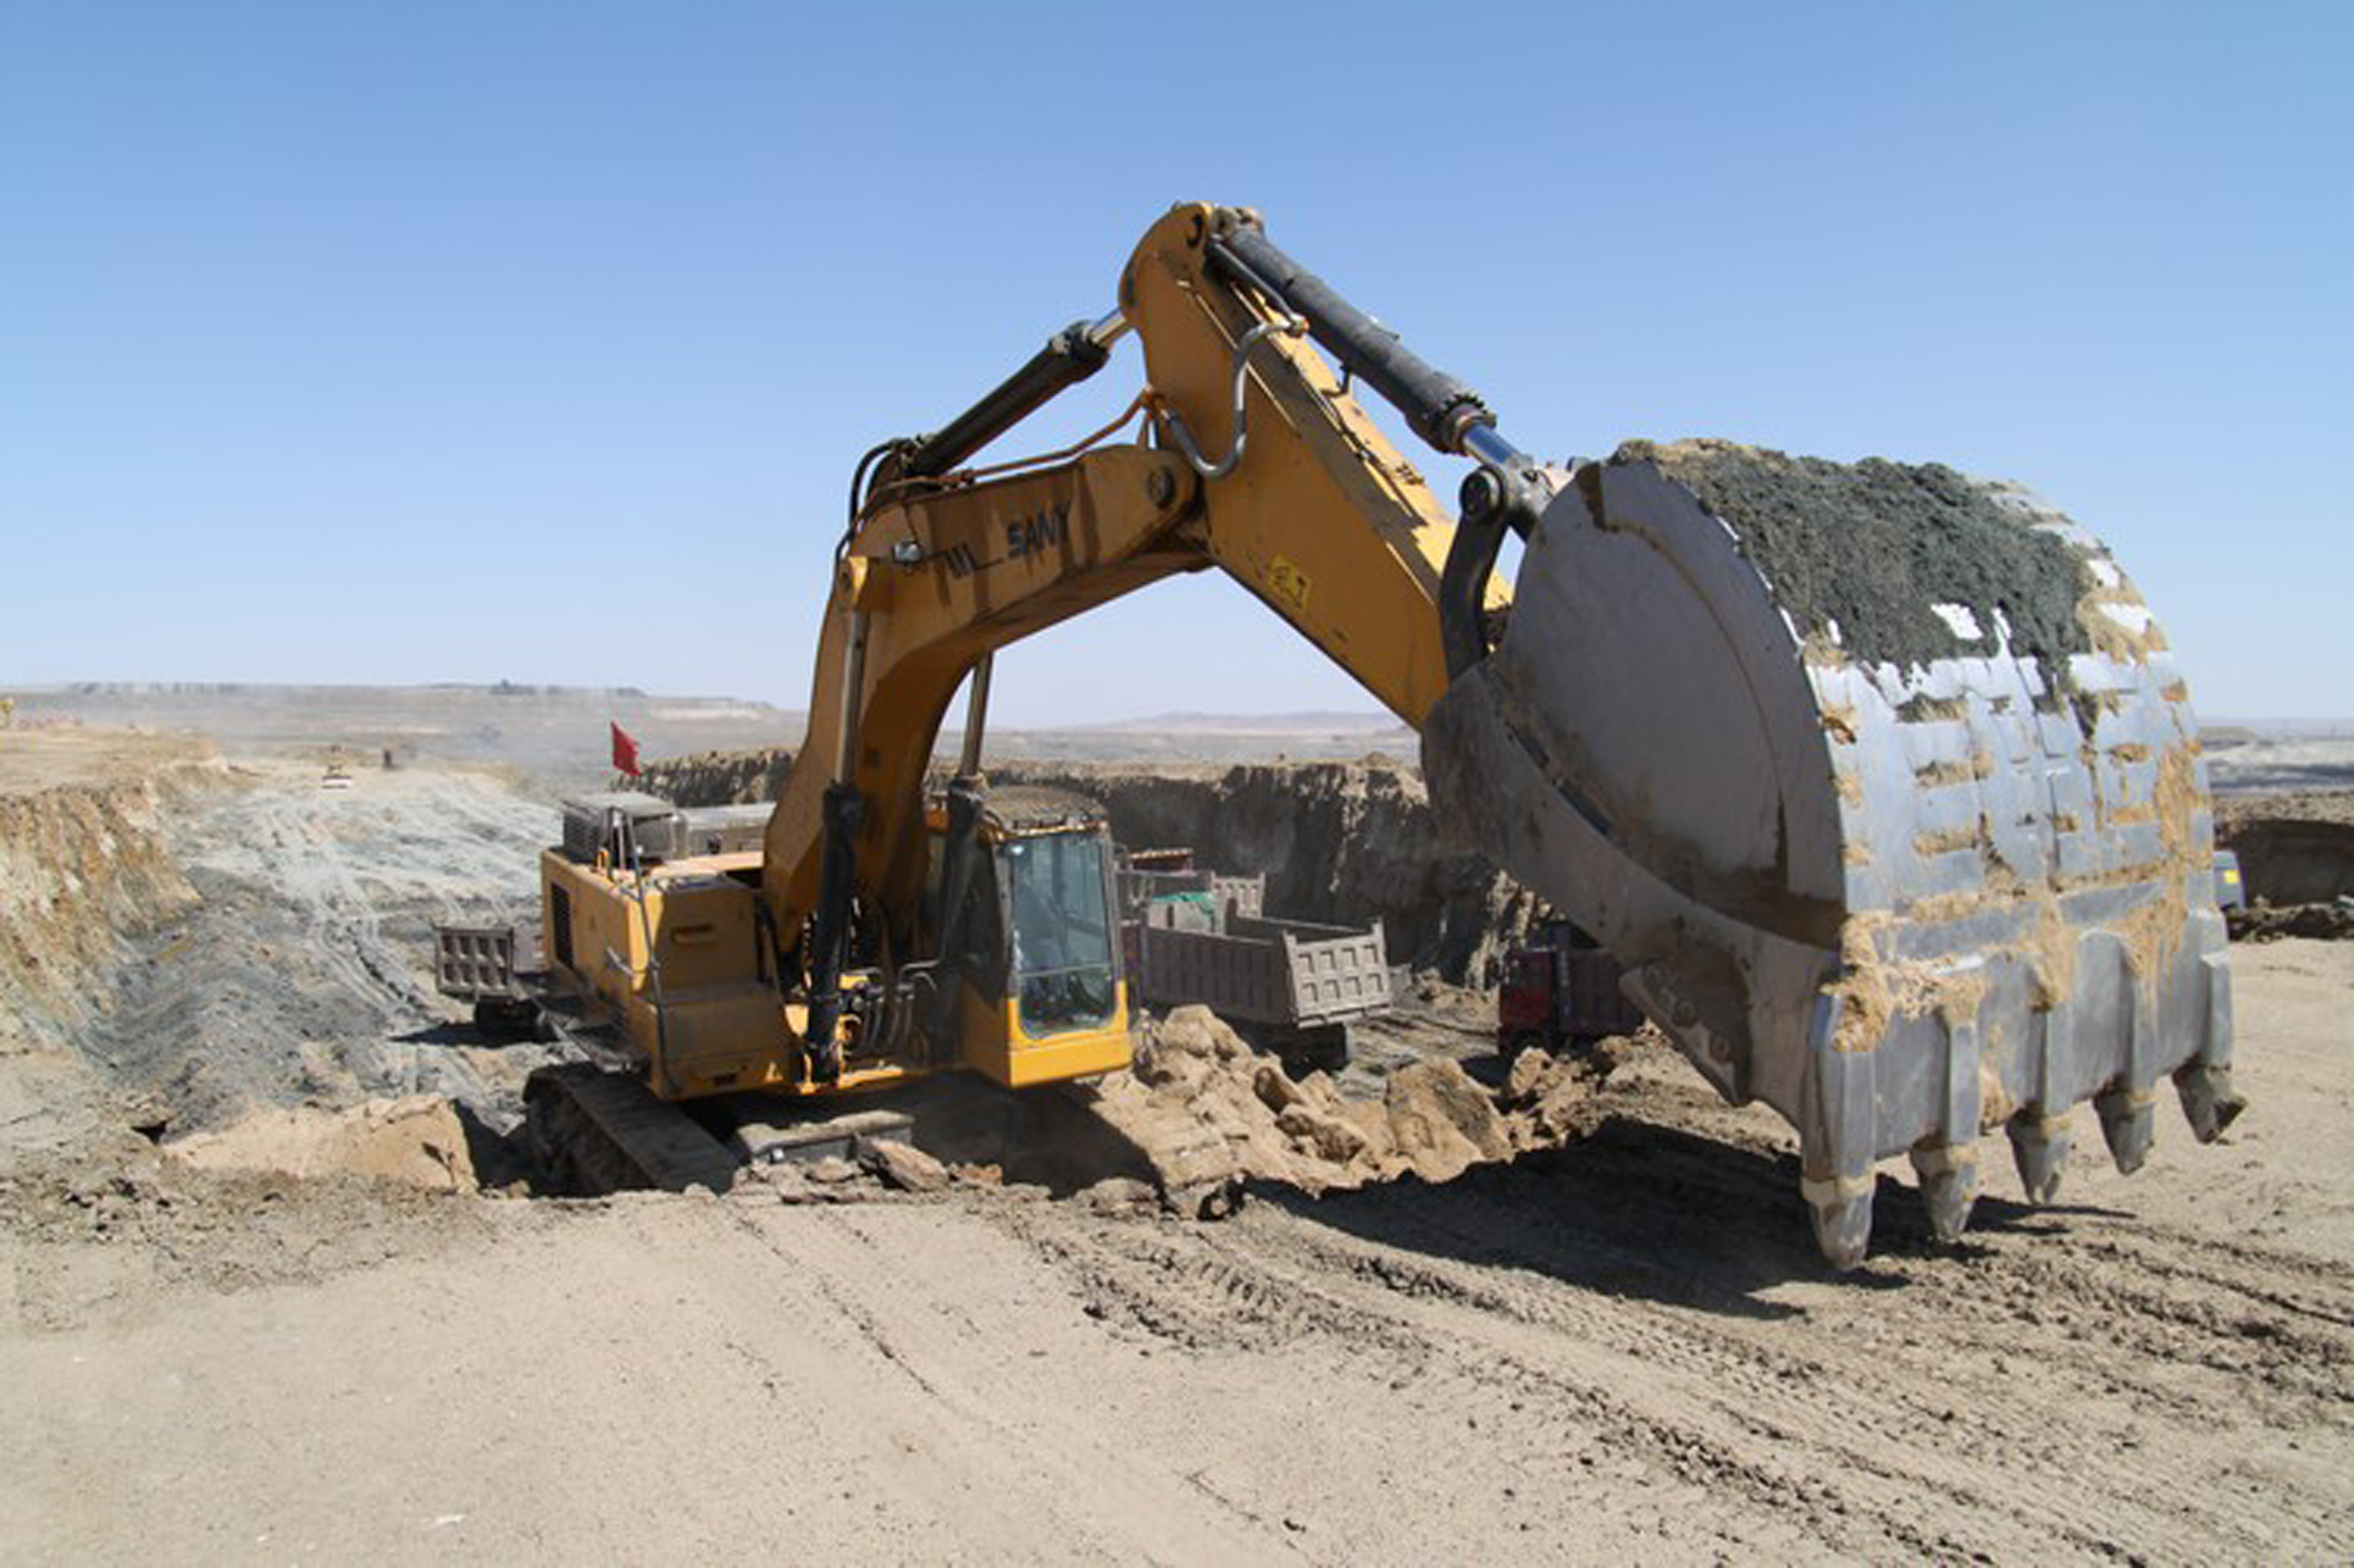excavator: (546, 193, 2235, 1283)
